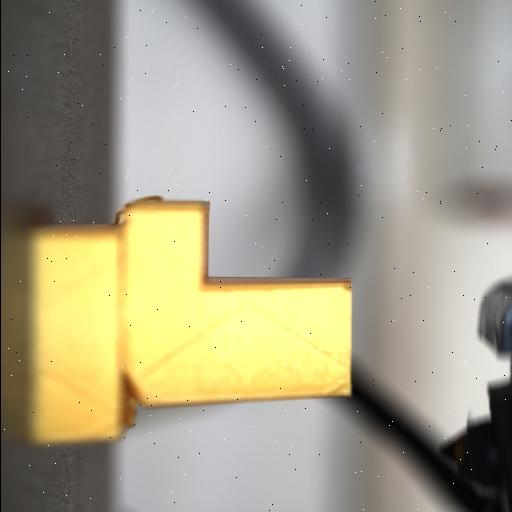layer_shift: (108, 202, 146, 446)
